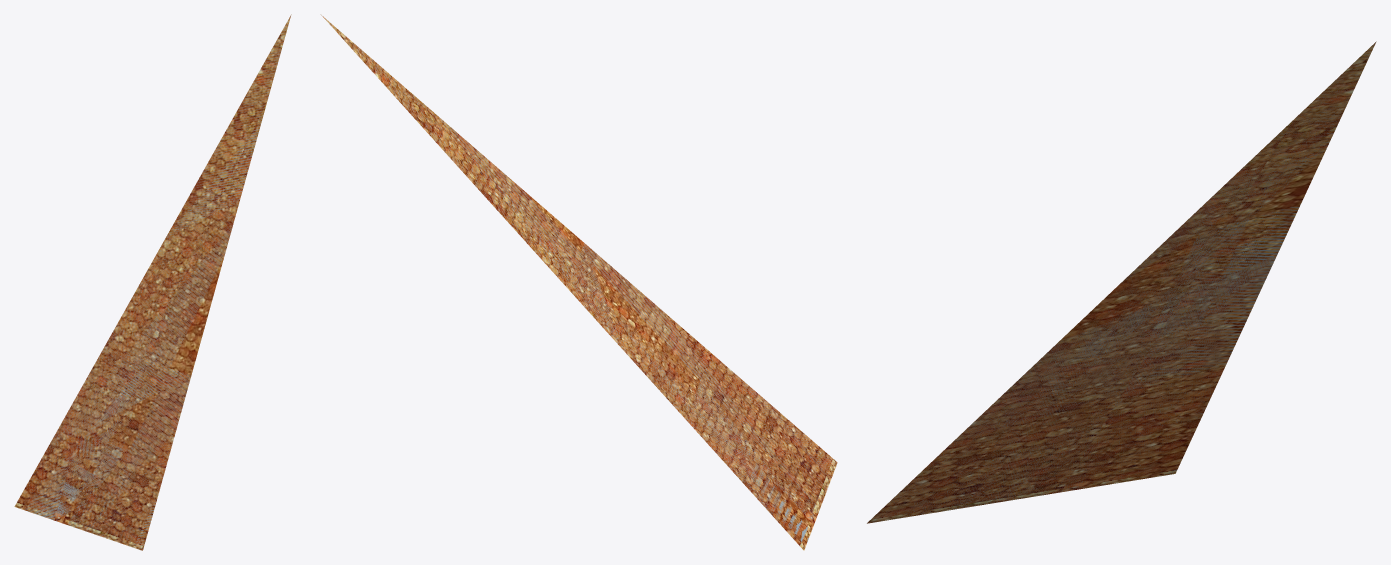
The model's file is 西庸城堡508.dae.
The picture shows the model from 3 angles, left to right: view 1: azimuth 30°, elevation 25°; view 2: azimuth 150°, elevation 25°; view 3: azimuth 270°, elevation 25°; orthographic projection. The views are drawn at different scales.
Visible parts, largest first — view 1: SketchUp; view 2: SketchUp; view 3: SketchUp.
Part boxes in pixels (bbox=[...]): SketchUp: bbox=[14, 14, 291, 550]; SketchUp: bbox=[320, 14, 837, 550]; SketchUp: bbox=[867, 41, 1376, 523].
Bounding box in the file's own units: 251 × 169 × 276.
